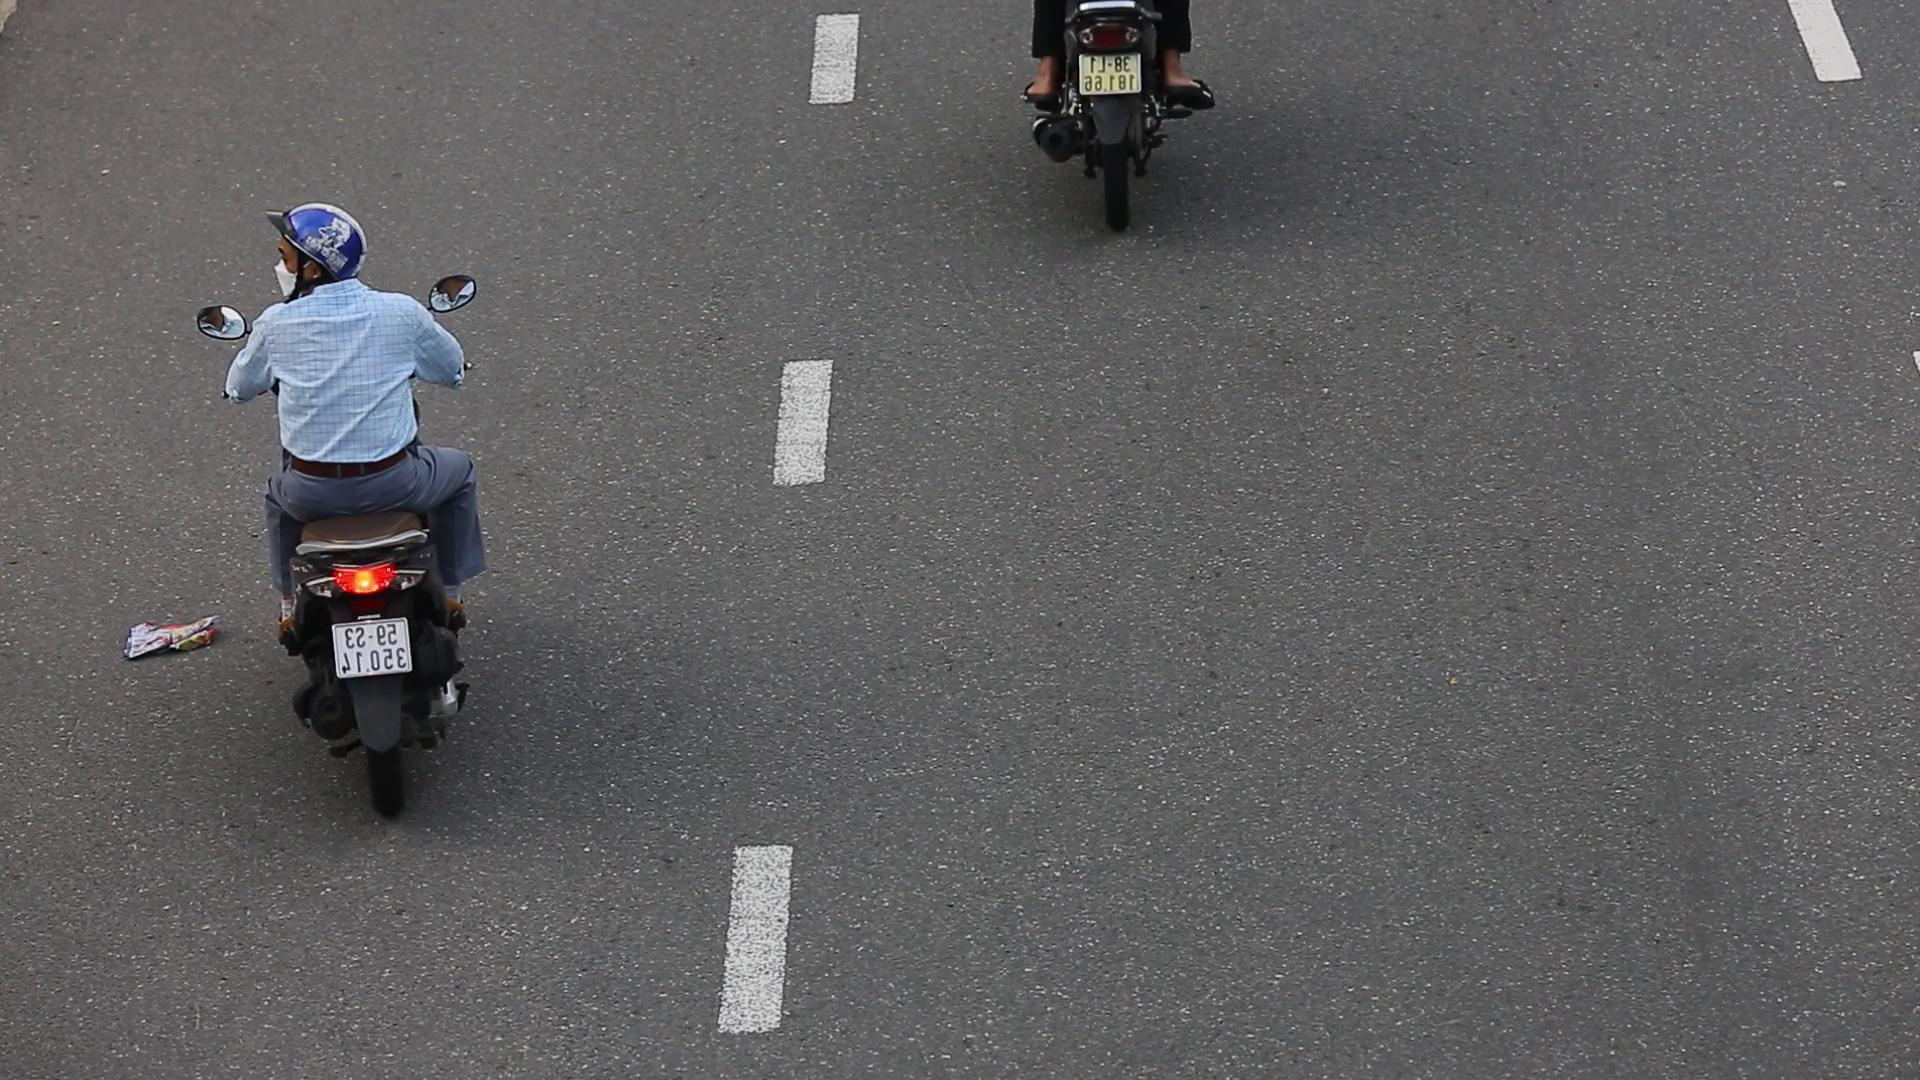motobike: (190, 174, 500, 825)
